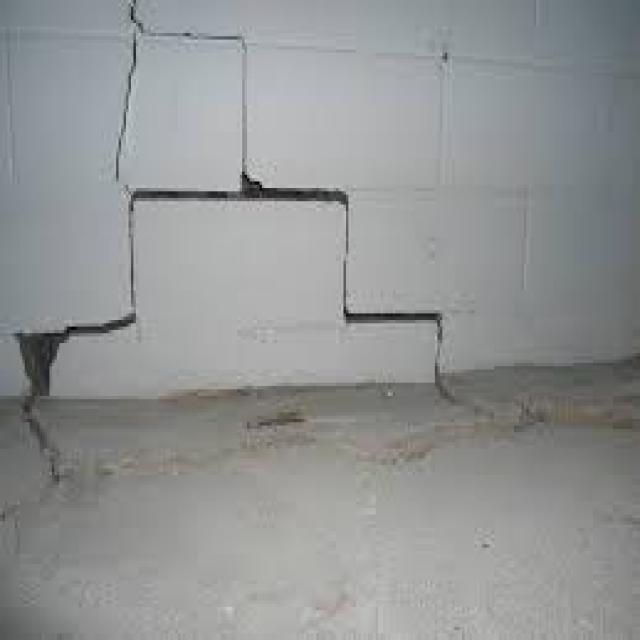Crack: (0, 0, 482, 409)
